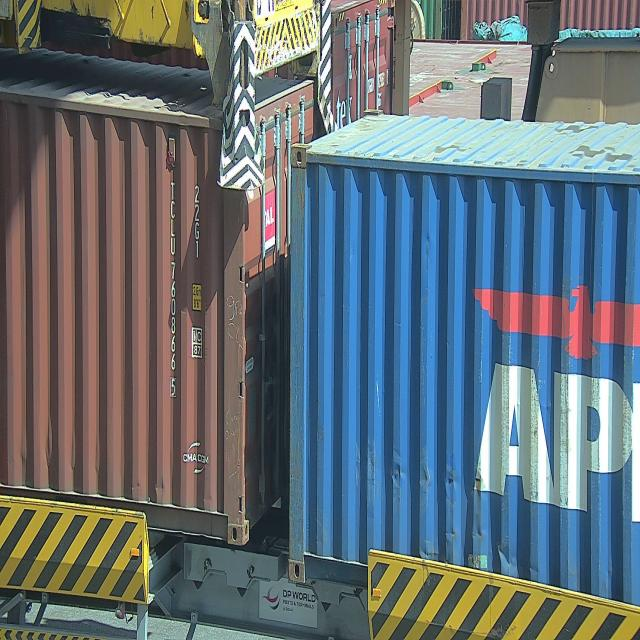dent: (380, 452, 541, 578)
